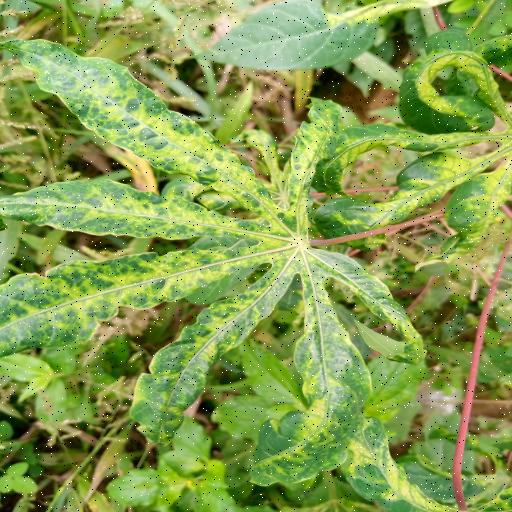Cassava_Mosaic: (0, 38, 429, 488), (310, 40, 512, 254)
